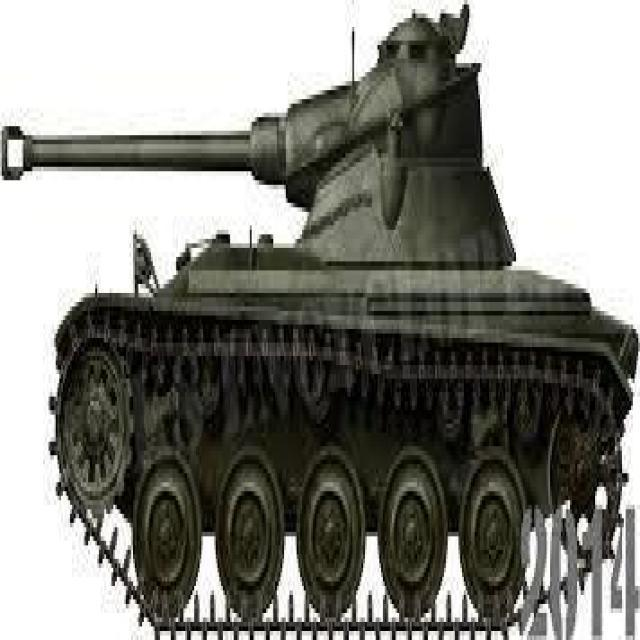MIL_MBT: (3, 23, 571, 622)
